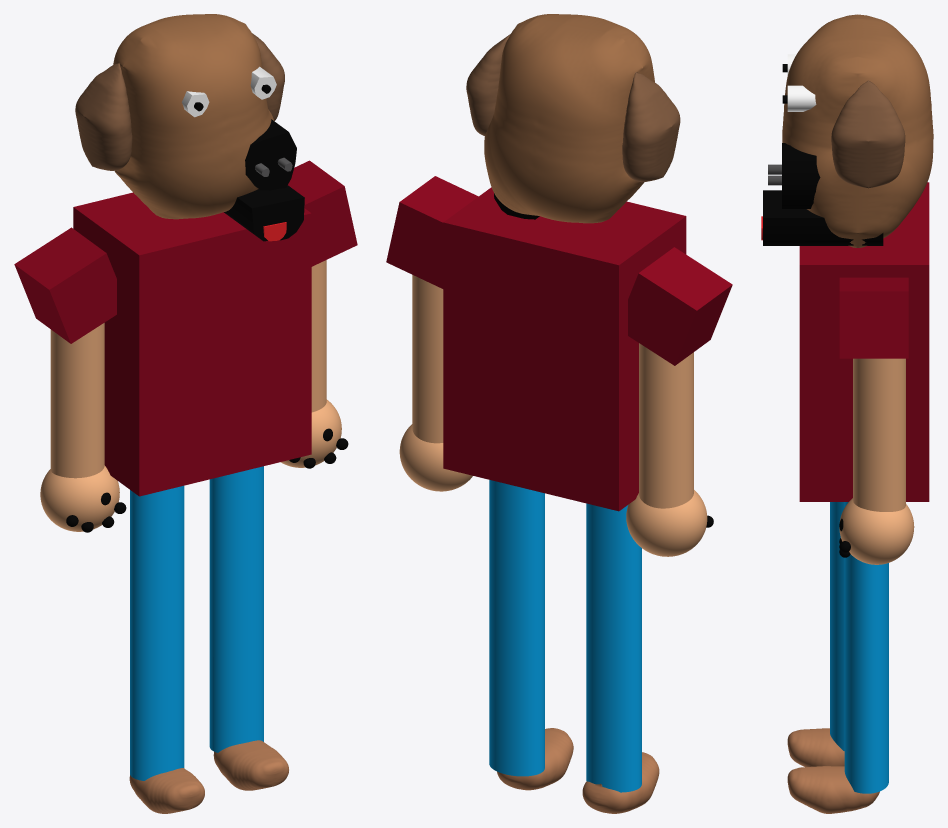
Rendered from obj_emilee.fbx.
3 renders of one model, left to right at view 1: azimuth 30°, elevation 25°; view 2: azimuth 150°, elevation 25°; view 3: azimuth 270°, elevation 25°, orthographic. The views are drawn at different scales.
Parts seen in each view (by area): view 1: root (×16); view 2: root (×14); view 3: root (×13).
Boxes of the visible parts, x1,y1,x2,y2 form: root (×16): (14, 14, 357, 813); root (×14): (386, 14, 732, 813); root (×13): (763, 14, 933, 813).
Bounding box in the file's own units: 0.1943 × 0.4652 × 0.0962.
21 materials, 21 textured.
